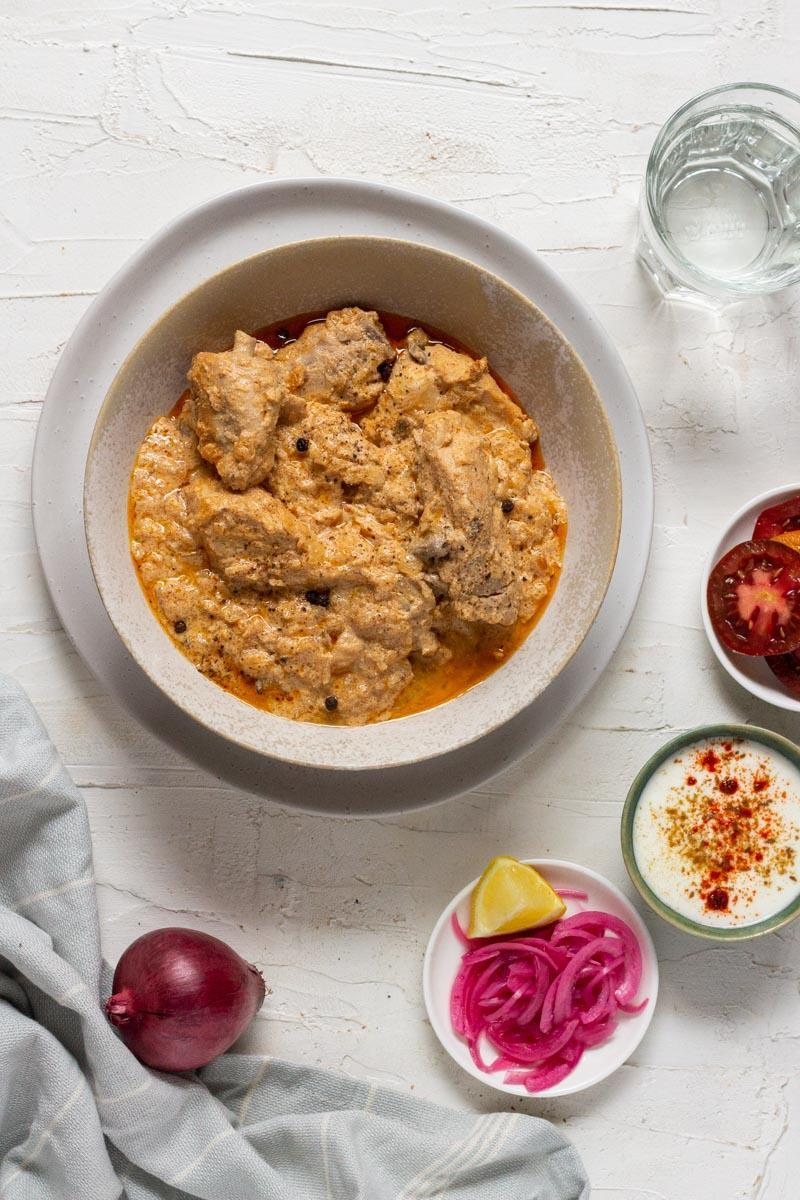chicken: (137, 295, 597, 719)
